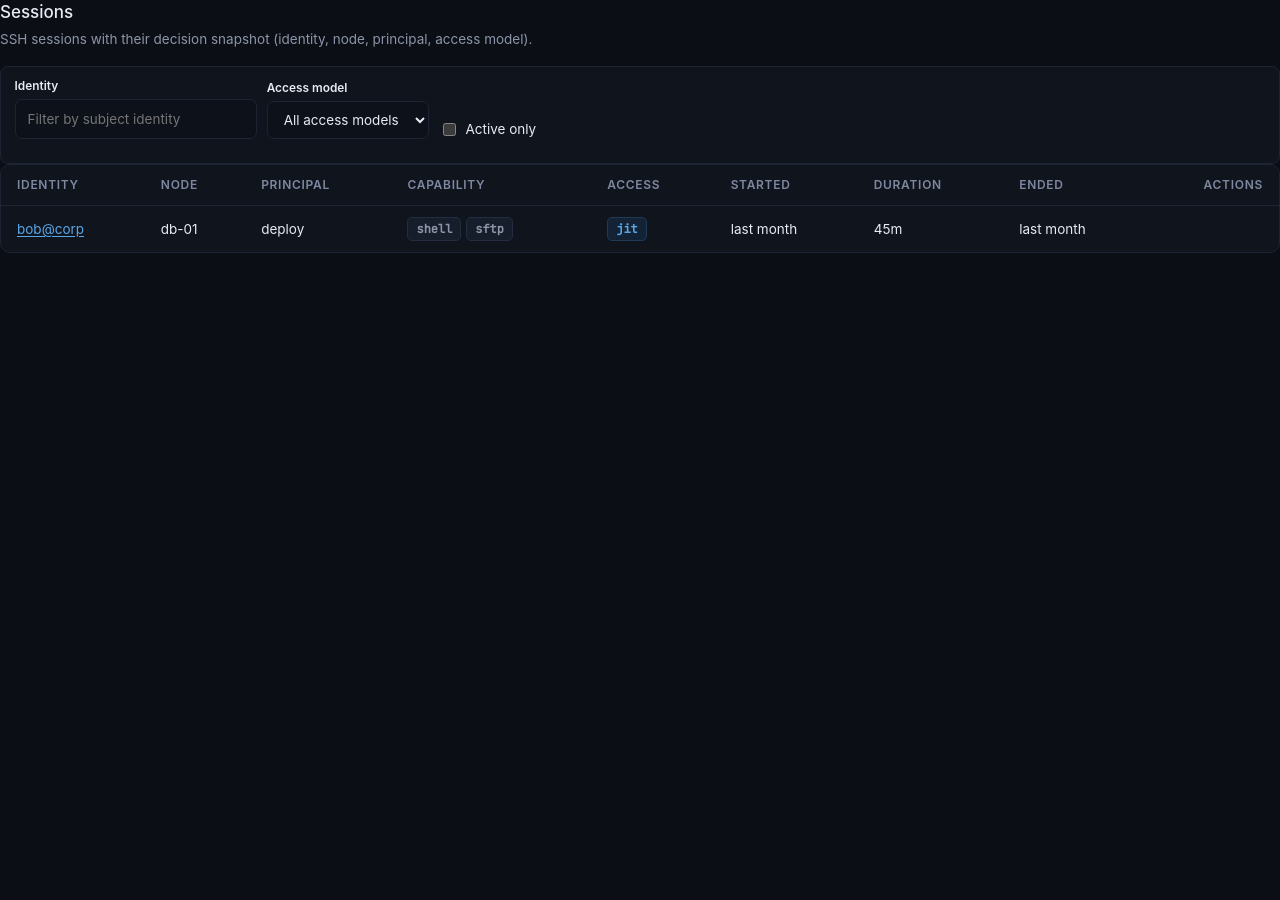
SessionPage › opens session detail via getSession
Click the button "bob@corp". click: (50, 229)
box: [17,219,84,239]
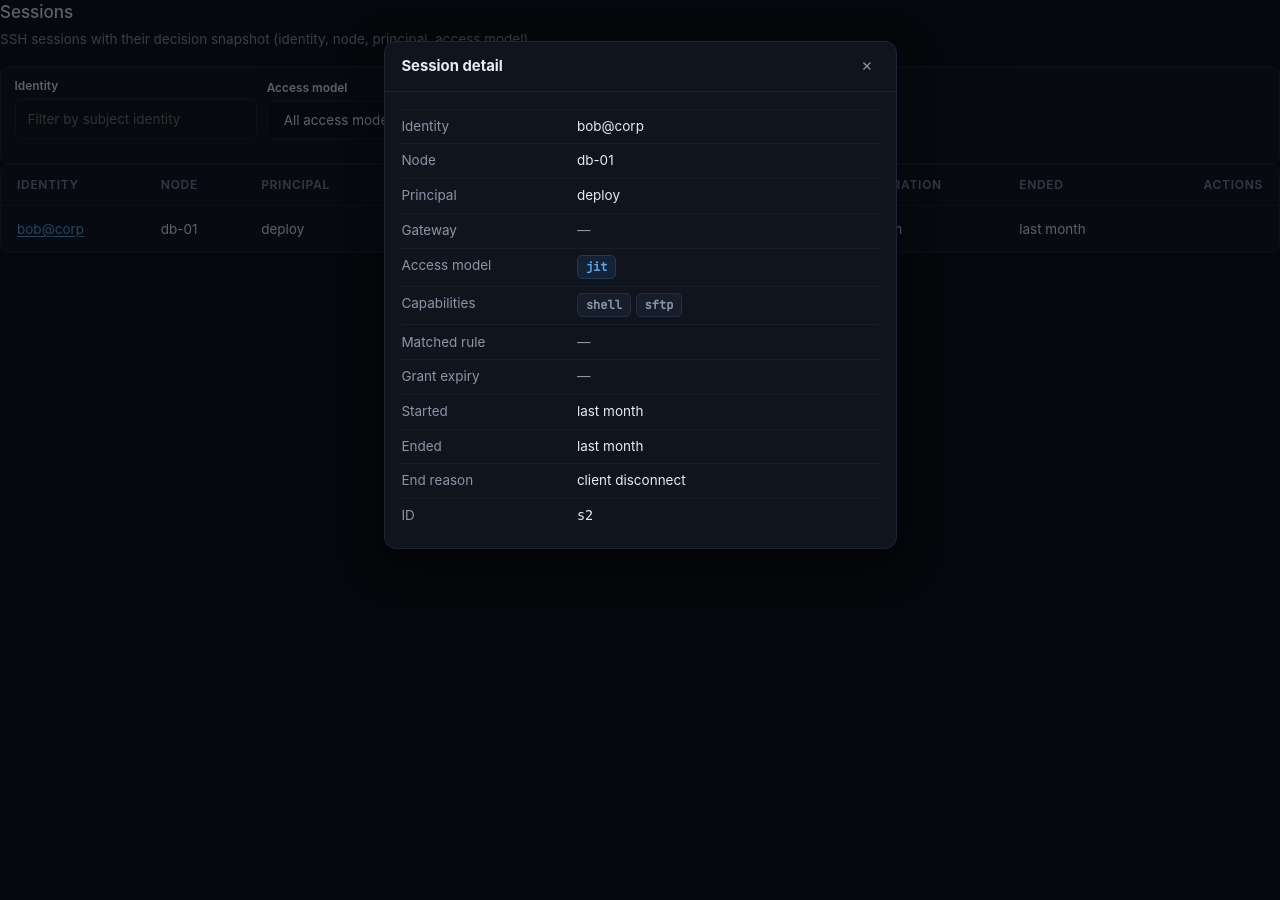
Expected: the heading "Session detail" is shown, [401,55,503,77]
Expected: the text "client disconnect" is shown, [577,472,686,488]
Expected: the text "sftp" is shown, [636,293,682,317]
